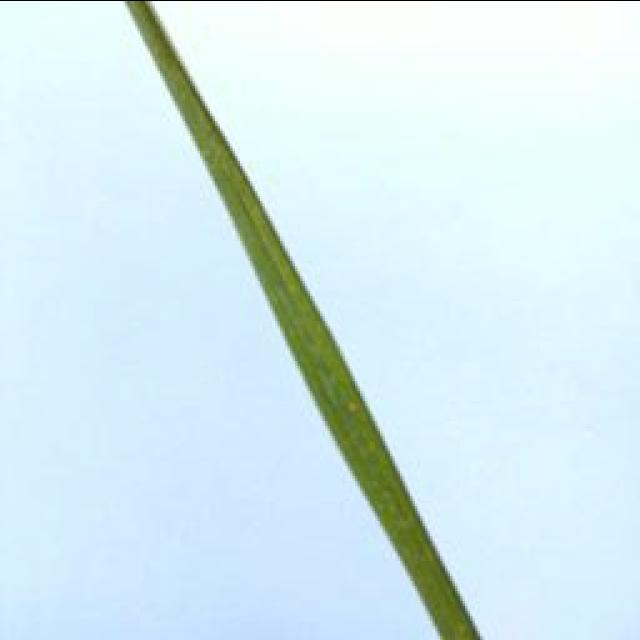Healthy: (122, 0, 485, 640)
